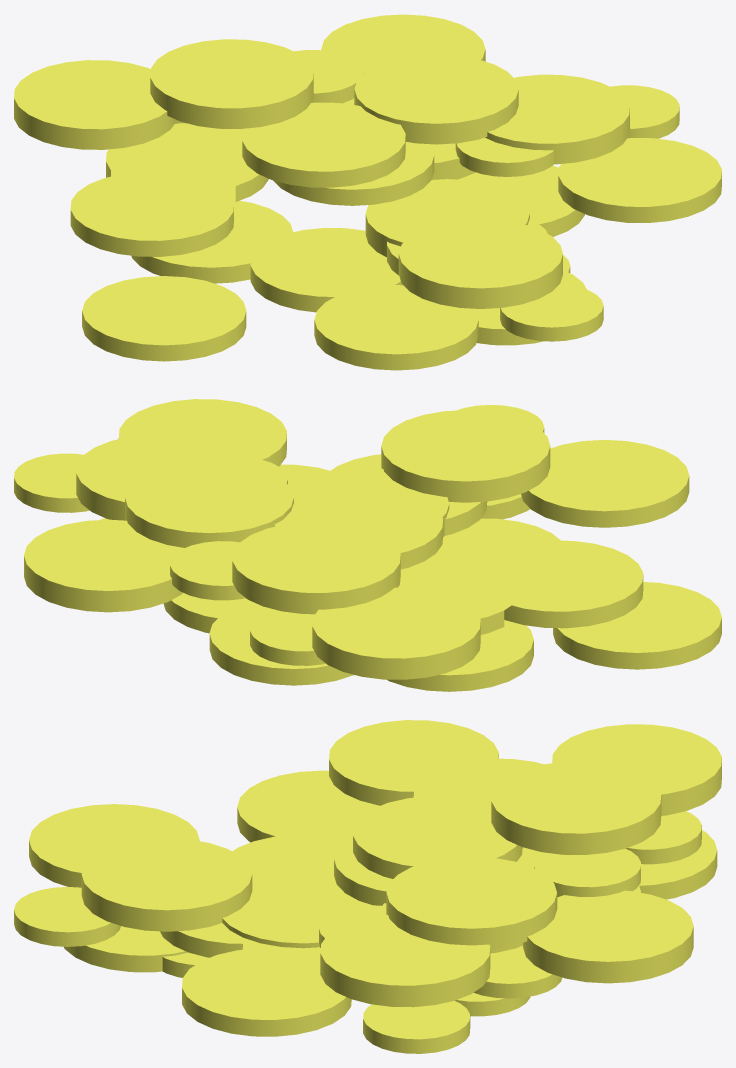
Rendered from gold.fbx.
3 renders of one model, top to bottom at view 1: azimuth 30°, elevation 25°; view 2: azimuth 150°, elevation 25°; view 3: azimuth 270°, elevation 25°, orthographic. The views are drawn at different scales.
Parts seen in each view (by area): view 1: Model; view 2: Model; view 3: Model.
Boxes of the visible parts, left/top/right/bottom form: Model: left=14, top=14, right=721, bottom=370; Model: left=14, top=399, right=721, bottom=691; Model: left=14, top=720, right=721, bottom=1053.
Bounding box in the file's own units: 6.5 × 1.17 × 6.14.
